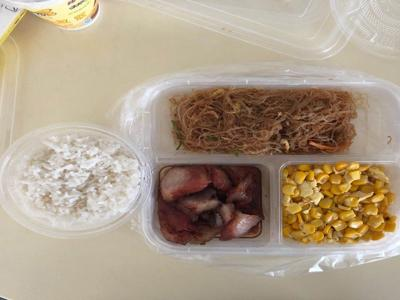rice: (6, 124, 147, 241)
